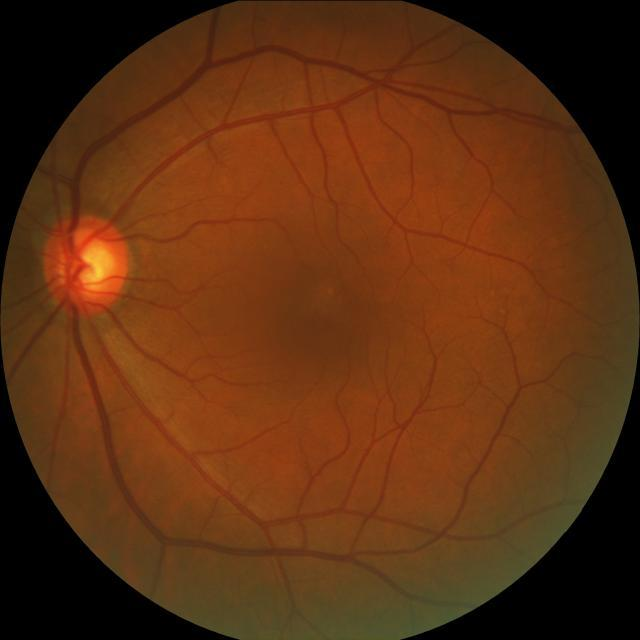OC: (70, 243, 116, 292)
OD: (39, 211, 128, 314)
